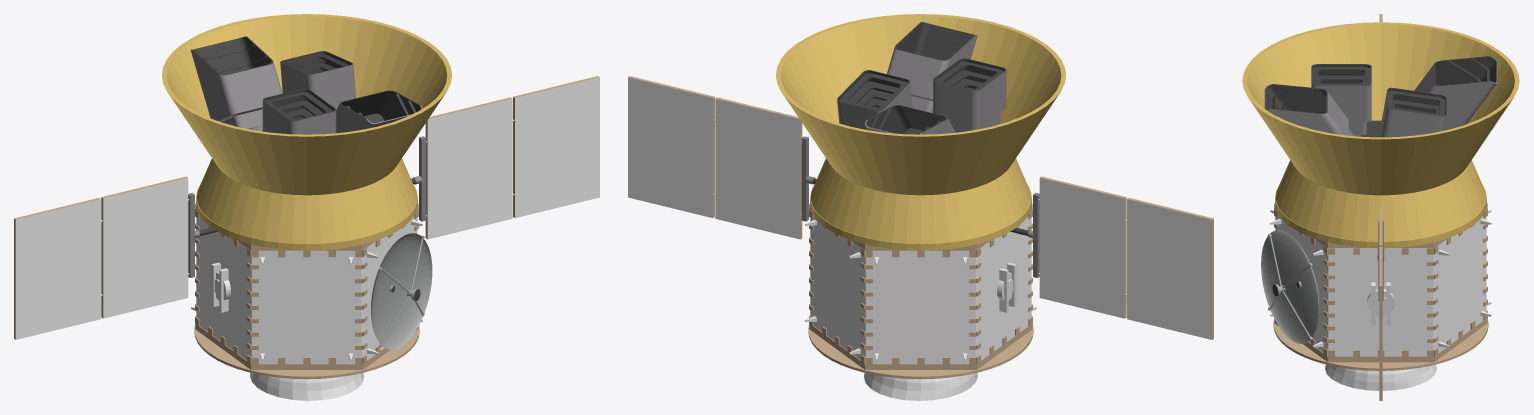
File: tess.glb
3 renders of one model, left to right at view 1: azimuth 30°, elevation 25°; view 2: azimuth 150°, elevation 25°; view 3: azimuth 270°, elevation 25°, orthographic. The views are drawn at different scales.
Visible parts, largest first — view 1: Layer_0; view 2: Layer_0; view 3: Layer_0.
Boxes of the visible parts, x1,y1,x2,y2 form: Layer_0: (14,14,599,400); Layer_0: (628,14,1213,400); Layer_0: (1242,14,1519,400).
Size of the model in its own units: 37.1 by 18.27 by 15.97.
3 materials, 3 textured.
